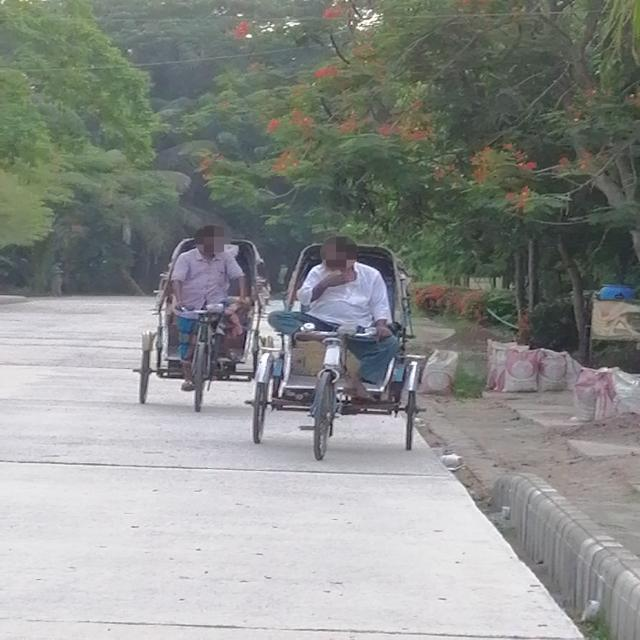Rickshaw: (249, 233, 428, 476), (123, 228, 269, 430)
